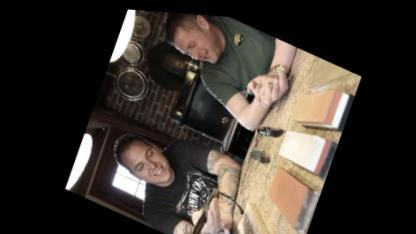knife: (175, 193, 223, 233)
